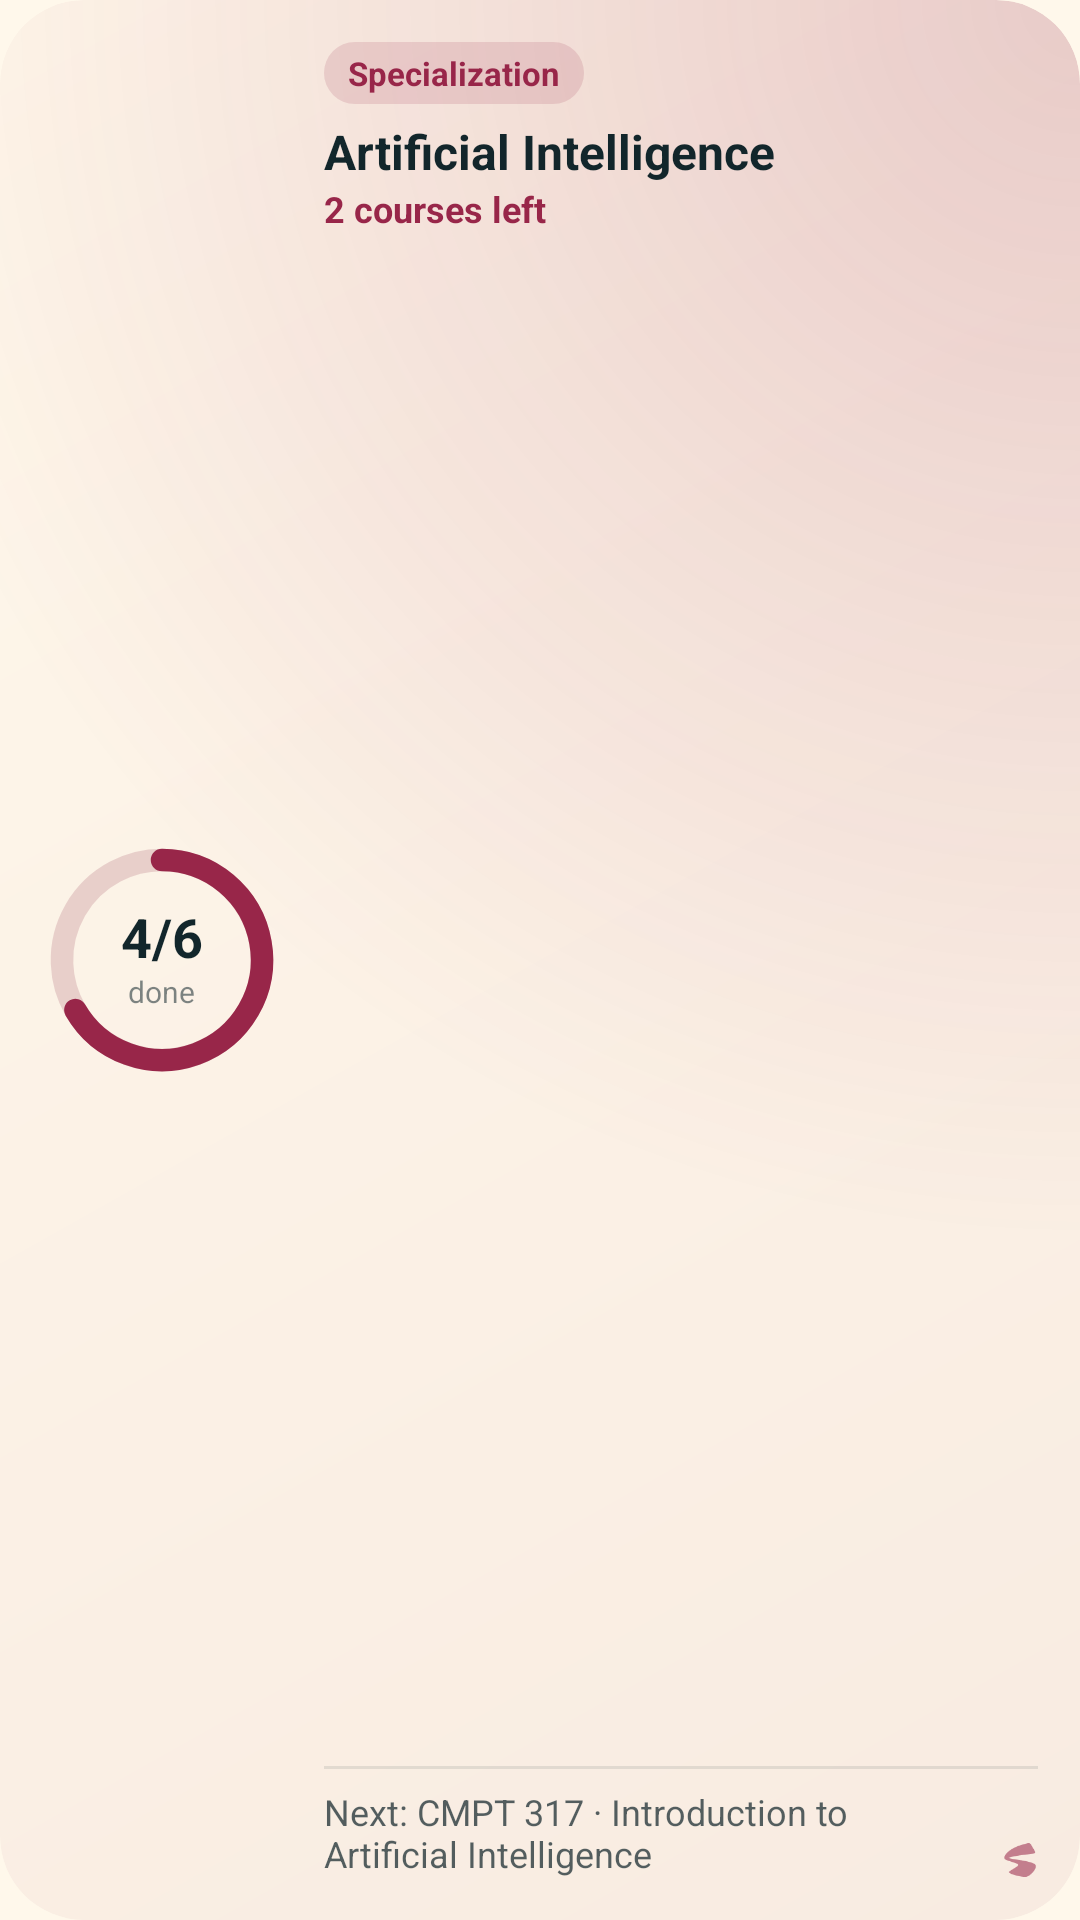

Locate icon controls on the screen. Image size 1080×1920, boxes as (x1, y1, x2, y2).
widget mark: (1004, 1843, 1036, 1877)
widget ring: (51, 848, 274, 1072)
